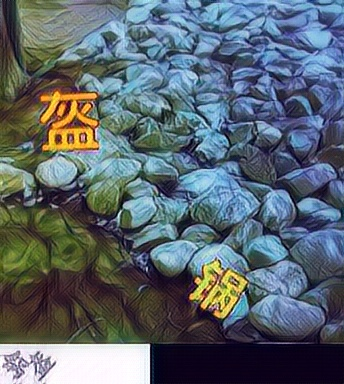B9F8: (185, 255, 250, 320)
BFF8: (37, 89, 102, 154)
